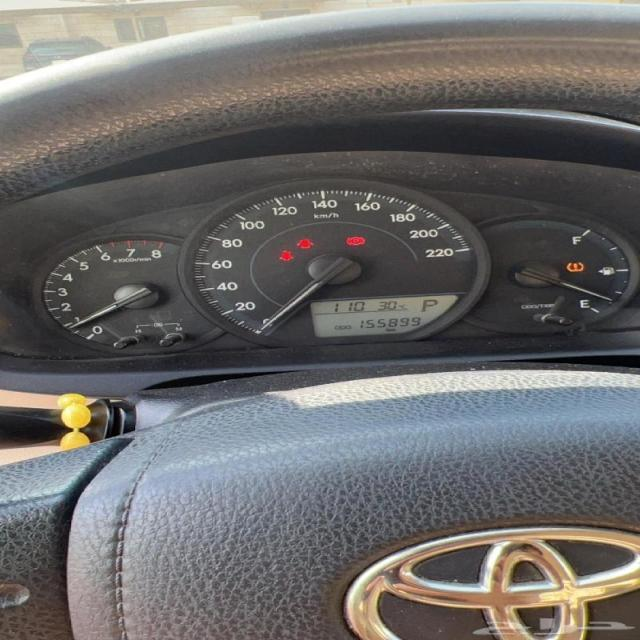Seat Belt: (280, 250, 294, 262)
